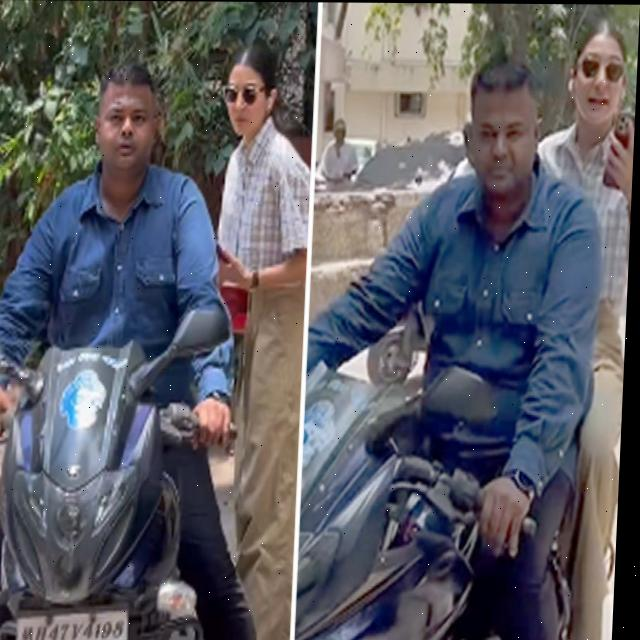without helmet: (463, 44, 550, 192), (87, 49, 172, 187), (570, 14, 630, 133), (223, 38, 281, 137)
